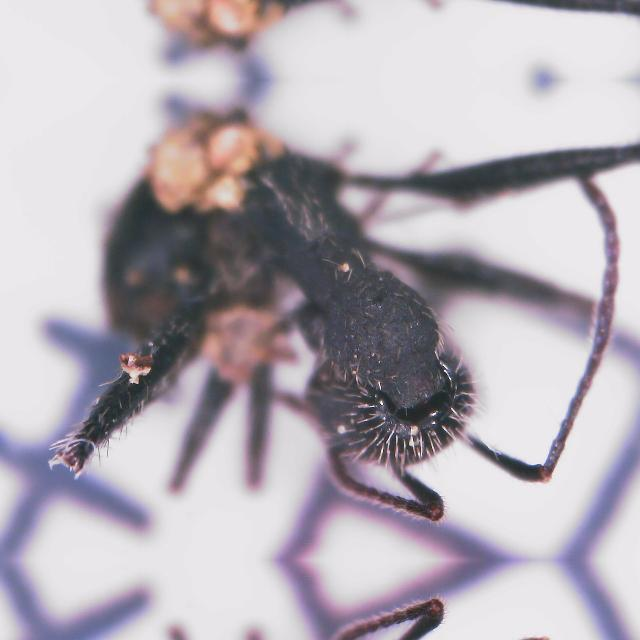Apheanogaster: (4, 95, 632, 560)
